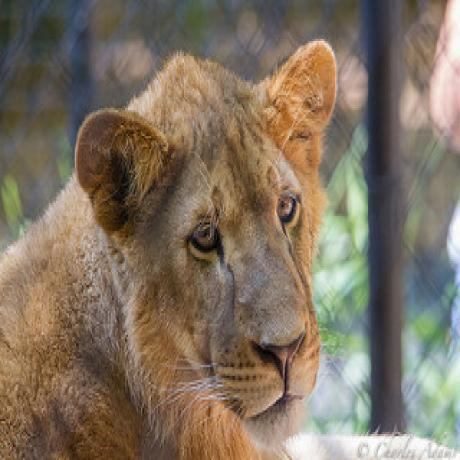Lion: (0, 40, 346, 460)
